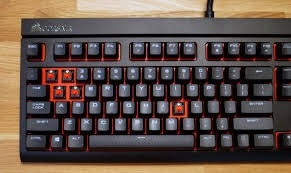keyboard: (19, 24, 291, 161)
